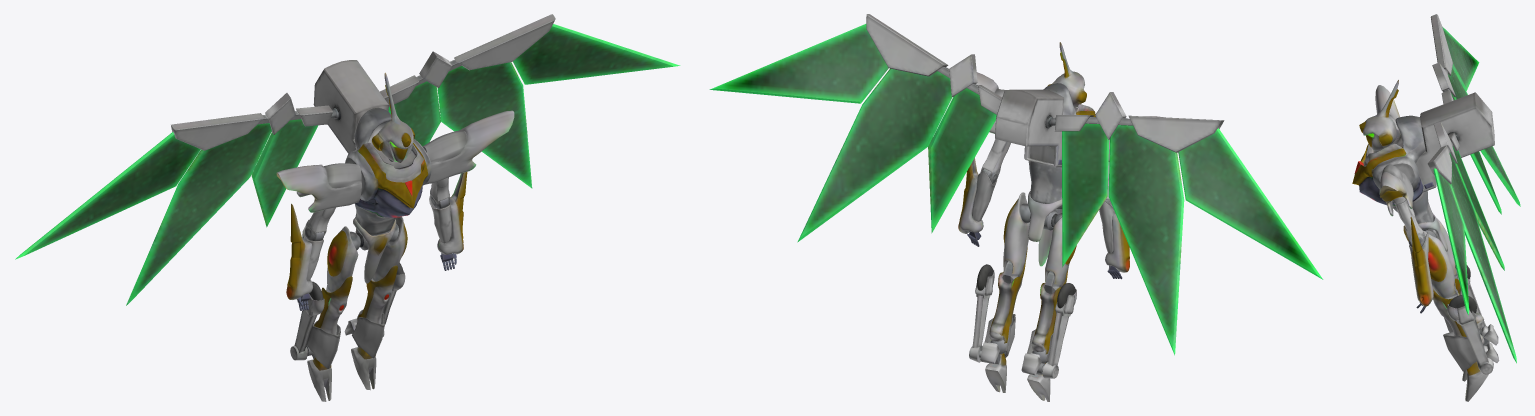
Rendered from lancelot.glb.
The picture shows the model from 3 angles, left to right: view 1: azimuth 30°, elevation 25°; view 2: azimuth 150°, elevation 25°; view 3: azimuth 270°, elevation 25°; orthographic projection. The views are drawn at different scales.
Parts seen in each view (by area): view 1: lancelot; view 2: lancelot; view 3: lancelot.
Part boxes in pixels (x1,y1,x2,y2): lancelot: (15,14,680,401); lancelot: (709,14,1323,401); lancelot: (1352,14,1520,401).
Bounding box in the file's own units: 1.97 × 1 × 0.4907.
Materials: 2 (2 with a texture image).
